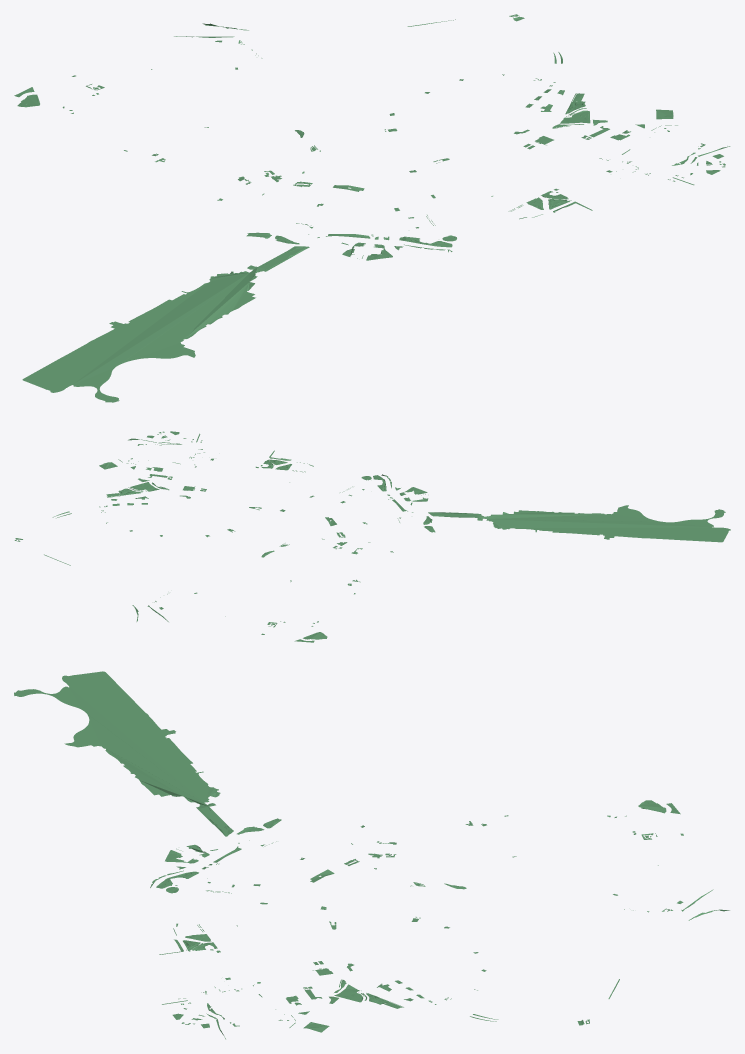
File: green.glb
3 views of the same model, one above another, from view 1: azimuth 30°, elevation 25°; view 2: azimuth 150°, elevation 25°; view 3: azimuth 270°, elevation 25° (orthographic). The views are drawn at different scales.
Parts seen in each view (by area): view 1: green; view 2: green; view 3: green.
Boxes of the visible parts, x1,y1,x2,y2 form: green: (14, 14, 730, 402); green: (14, 431, 730, 642); green: (14, 671, 729, 1039).
Size of the model in its own units: 4073 by 24.86 by 3352.
